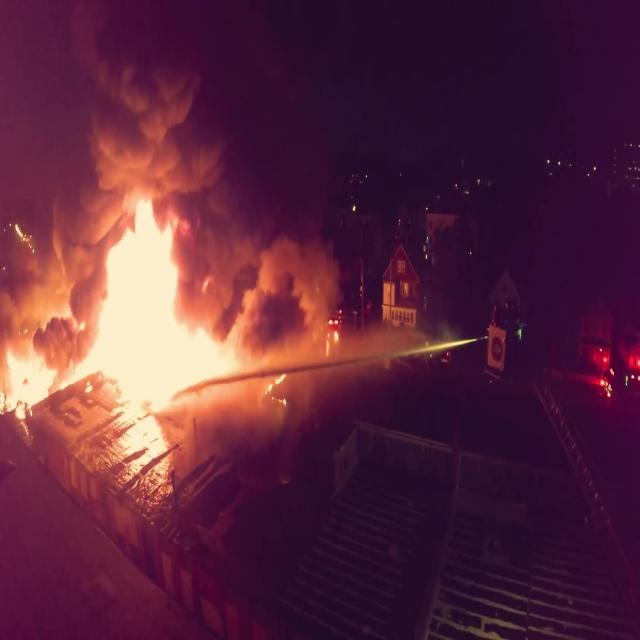Fire: (3, 199, 264, 414)
Smoke: (34, 0, 336, 344)
